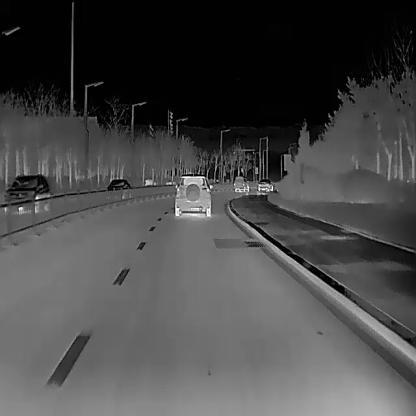car: (2, 173, 51, 215), (174, 173, 213, 215), (106, 179, 132, 197), (233, 174, 248, 192), (257, 178, 273, 190), (144, 179, 157, 189), (165, 181, 176, 185)
